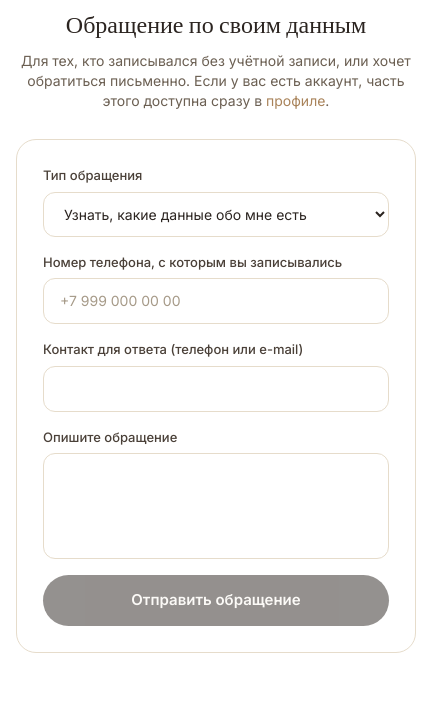
Scenario: SubjectRequestPage › shows a rate-limit message on 429
This screenshot has width=433, height=706.
Type "+79991234567" into the field labelled "Номер телефона, с которым вы записывались" at x=216, y=301, box [43,278,389,324]
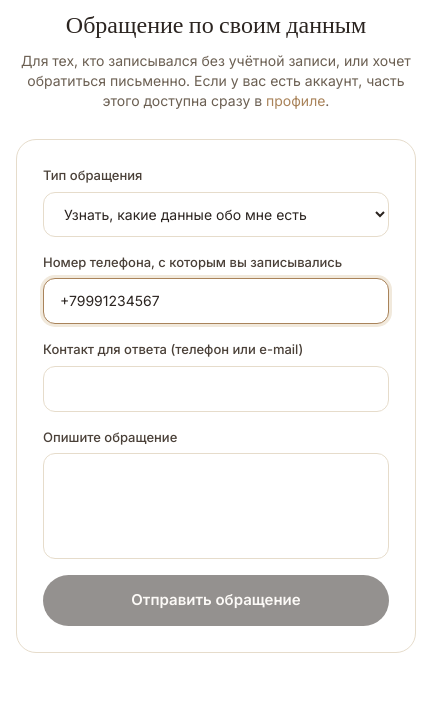
Type "me@example.com" into the field labelled "Контакт для ответа (телефон или e-mail)" at x=216, y=388, box [43,366,389,412]
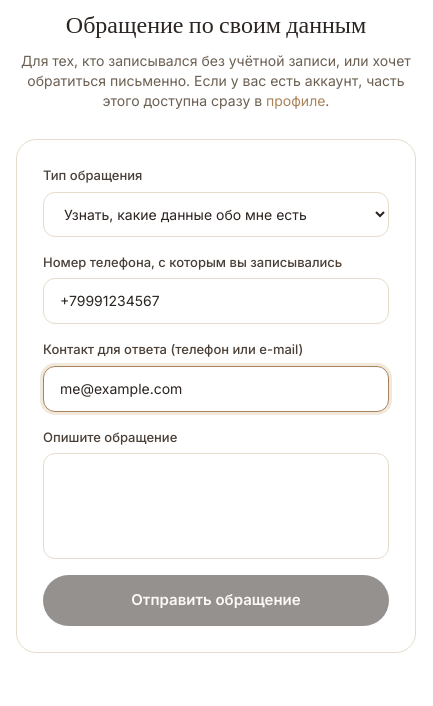
Type "Прошу удалить мои данные" into the text box labelled "Опишите обращение" at x=216, y=506, box [43,453,389,559]
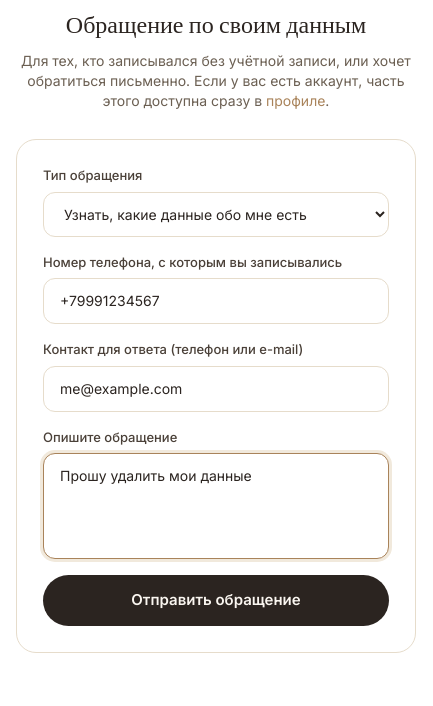
Click the button "Отправить обращение" at x=216, y=600, box [43,575,389,626]
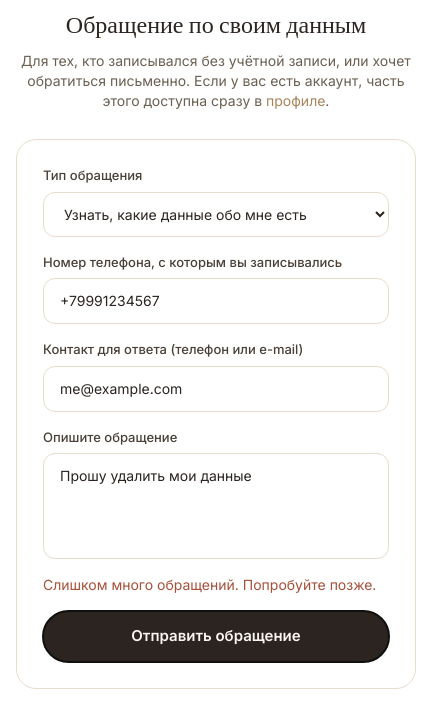
Now the text "Слишком много обращений. Попробуйте позже." is shown, box [43,575,389,595]
